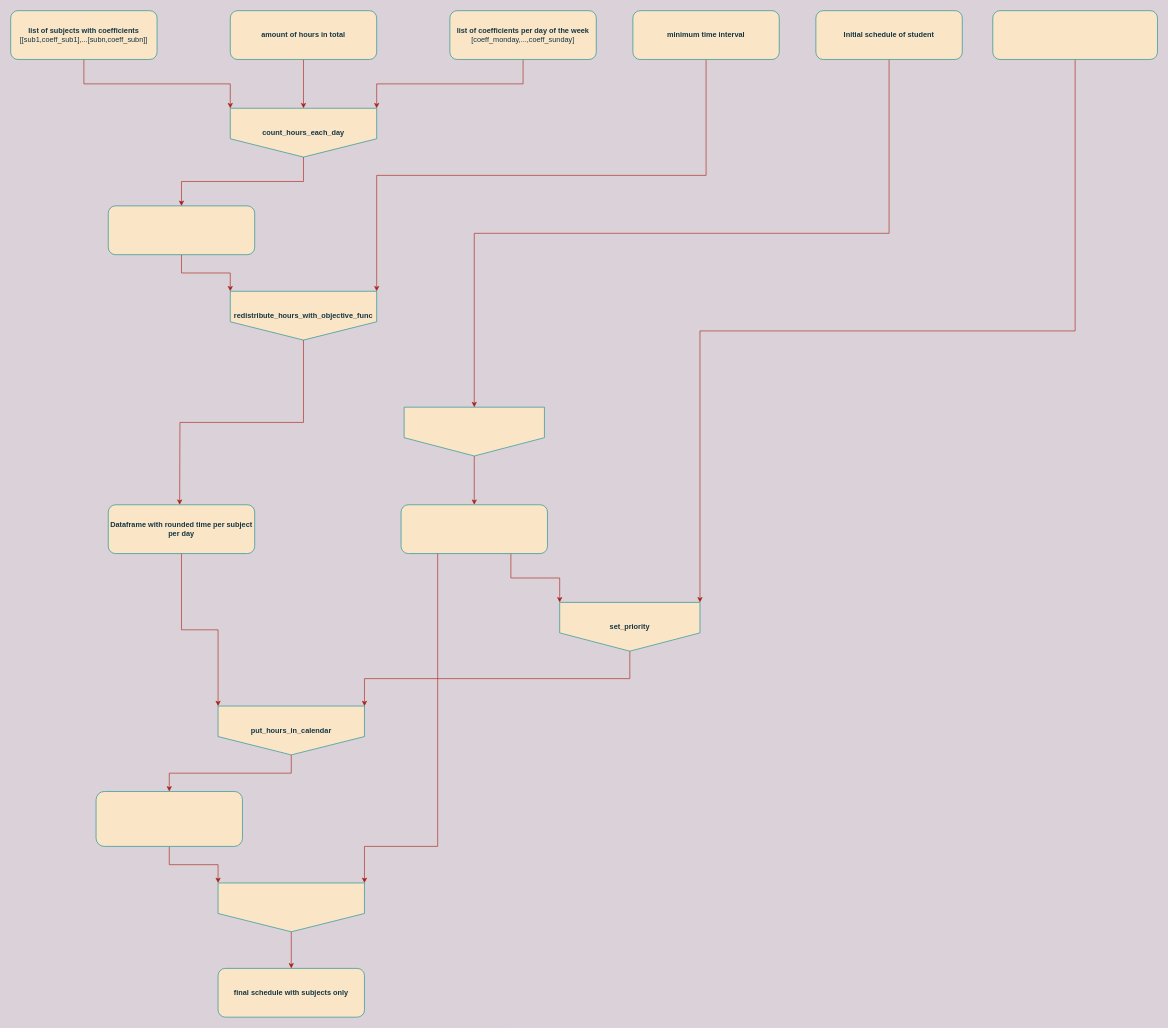
This 1168x1028 diagram has some shape labels left out. The shapes that lost their labels are listed below. From the top down, each one's centre as x and y in pixels, then its label:
At point 1074,34: "order [[morning,afternoon,evening],[morning,afternoon,evening]]".
At point 181,230: "dataframe with exact time per subject per day".
At point 474,431: "clean_cal (in secondary_functions_for _week_calendar_for_students)".
At point 473,529: "schedule of student in pandas".
At point 168,818: "final schedule with initial schedule integrated".
At point 290,907: "cal_with_subjects_only".
